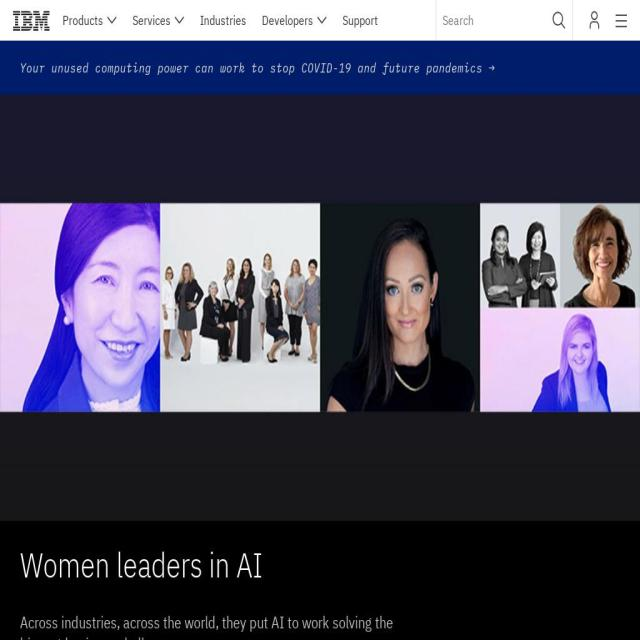button: (20, 58, 620, 78), (262, 0, 327, 40), (62, 0, 117, 40), (132, 0, 184, 40), (200, 0, 246, 40), (12, 0, 50, 40), (343, 0, 378, 40), (546, 0, 572, 40), (616, 0, 628, 40), (589, 0, 600, 40)
field: (436, 0, 573, 40)
heading: (20, 544, 603, 585)
image: (0, 94, 640, 521)
link: (20, 59, 482, 76)
text: (20, 611, 395, 640), (0, 0, 640, 16), (483, 59, 495, 76)
